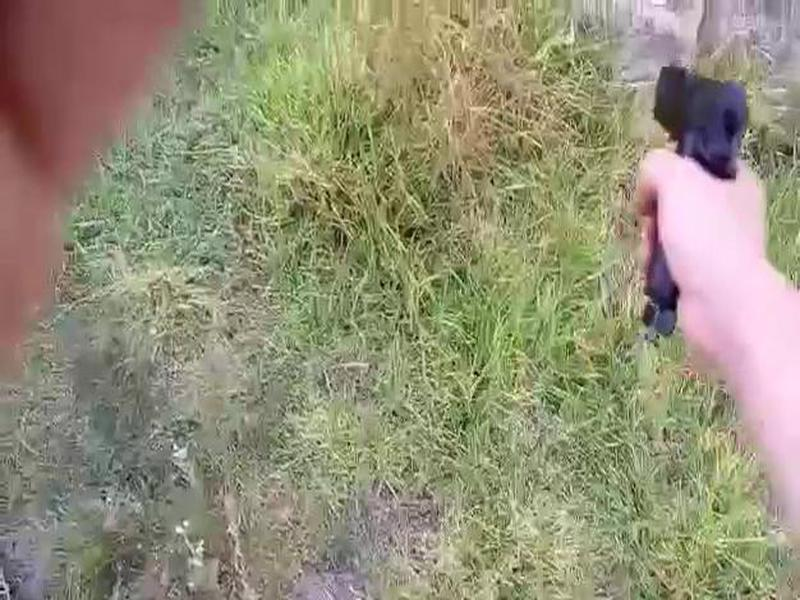Pistola: (629, 56, 757, 354)
